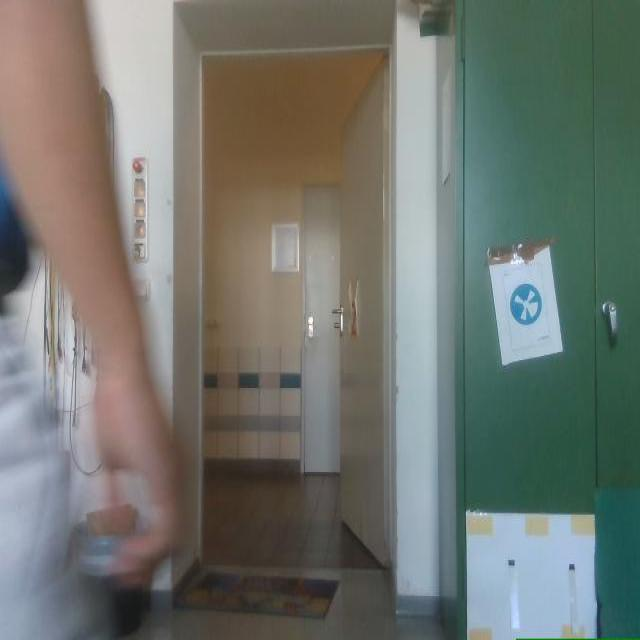humans: (0, 0, 180, 639)
objects: (595, 488, 639, 637), (0, 166, 28, 297)
